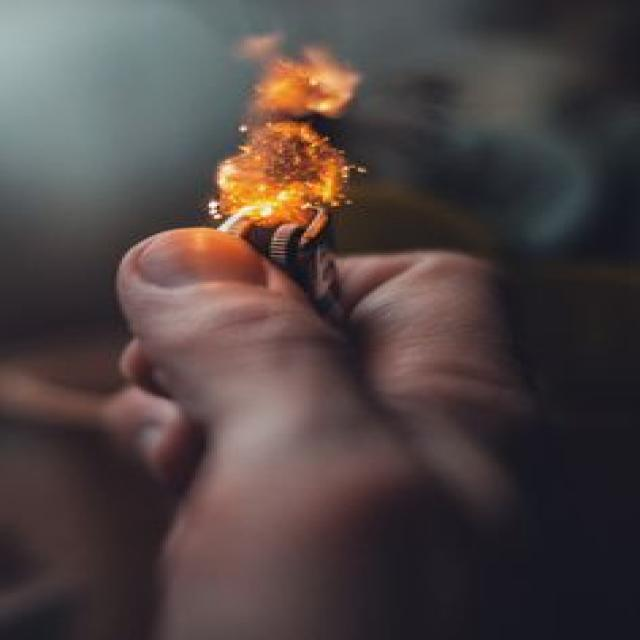Fire: (206, 32, 371, 264)
